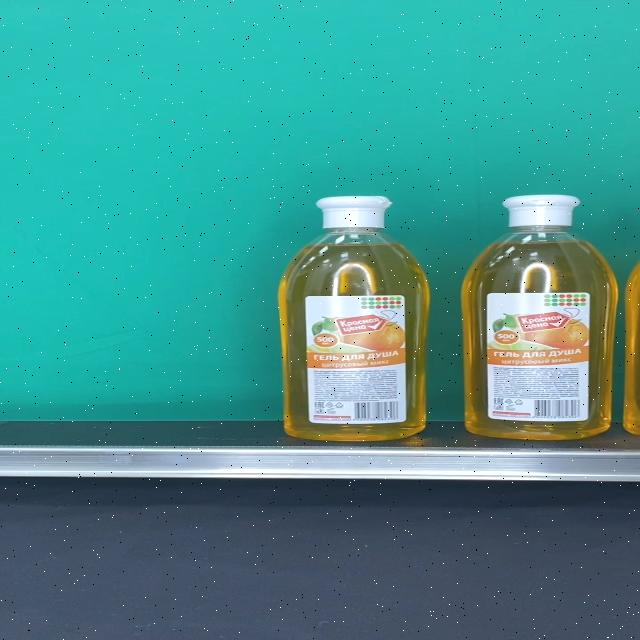Bottle: (462, 194, 619, 440), (278, 195, 432, 440)
Cap: (502, 195, 583, 228), (315, 195, 393, 229)
